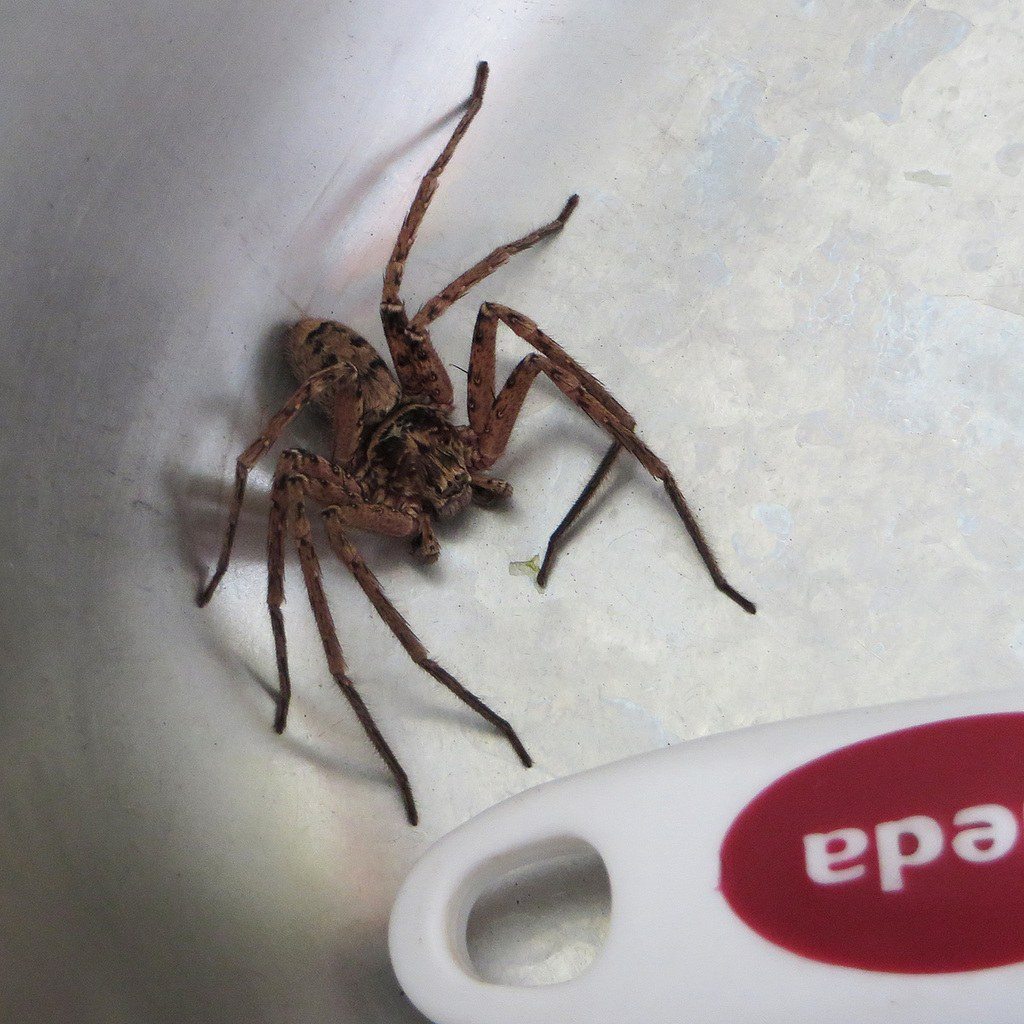insect: (192, 60, 760, 827)
